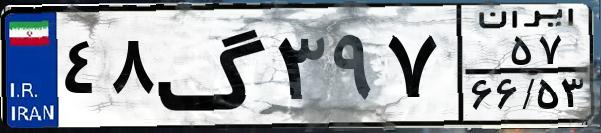3: (270, 28, 330, 110), (560, 70, 590, 125)
4: (57, 26, 110, 100)
5: (508, 27, 537, 80), (535, 70, 560, 125)
6: (470, 70, 495, 125), (495, 70, 520, 125)
7: (385, 28, 445, 110), (537, 27, 568, 80)
8: (110, 28, 156, 98)
9: (330, 28, 385, 110)
گ: (156, 12, 270, 120)
